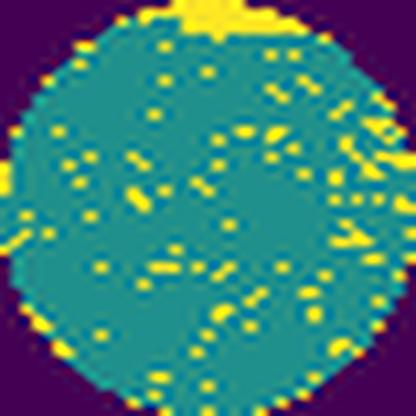Edge-Loc: (142, 0, 309, 38)
